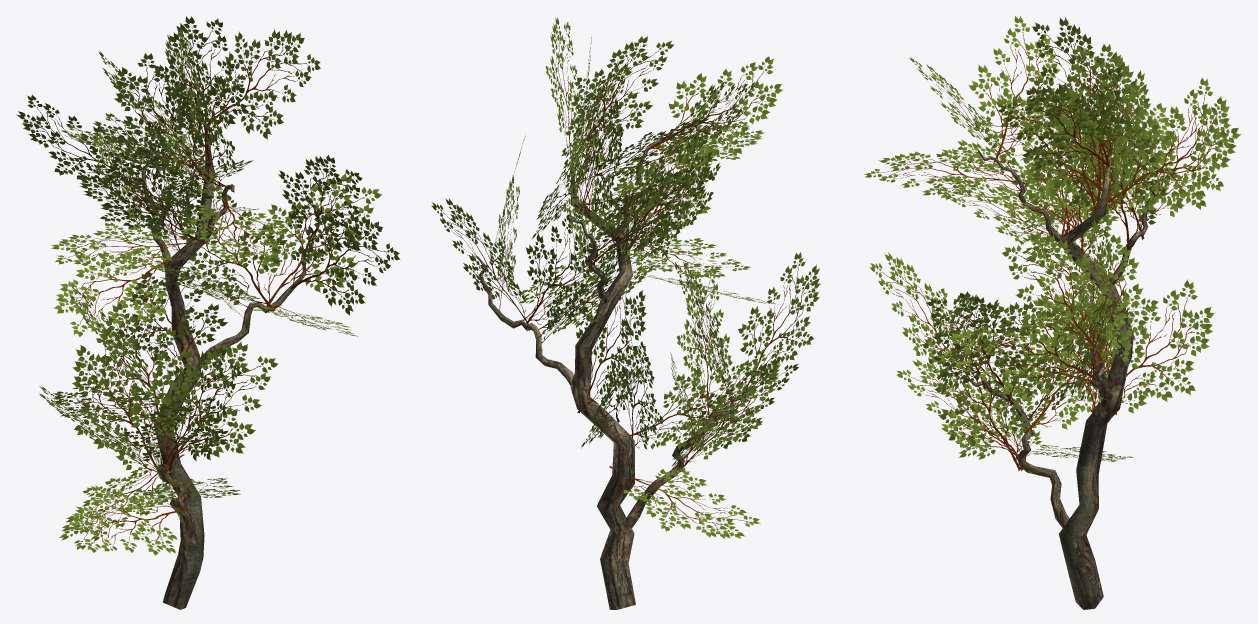
Rendered from MediumTree.fbx.
3 views of the same model, side by side, from view 1: azimuth 30°, elevation 25°; view 2: azimuth 150°, elevation 25°; view 3: azimuth 270°, elevation 25° (orthographic). The views are drawn at different scales.
Visible parts, largest first — view 1: MediumTree; view 2: MediumTree; view 3: MediumTree.
Boxes of the visible parts, bbox=[...] form: MediumTree: bbox=[16, 16, 400, 609]; MediumTree: bbox=[431, 17, 820, 609]; MediumTree: bbox=[864, 16, 1241, 609].
Size of the model in its own units: 117 by 184 by 109.
